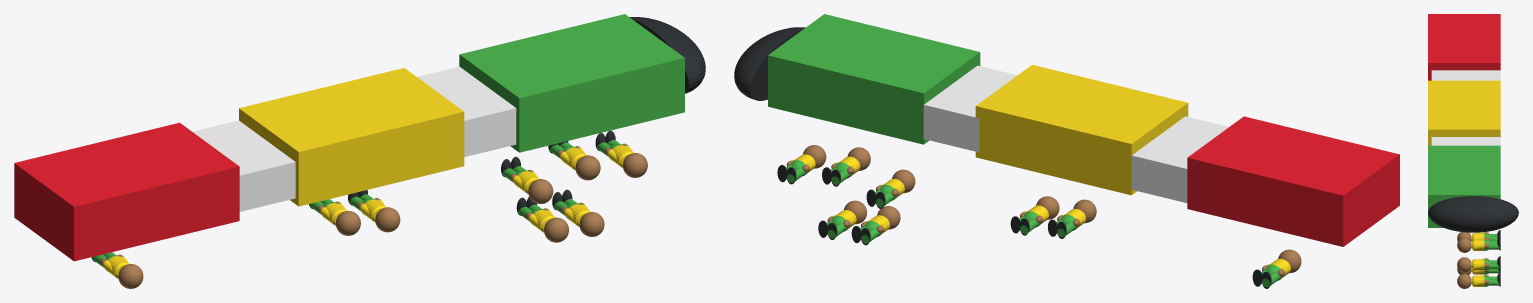
Rendered from tinker.obj.
3 views of the same model, side by side, from view 1: azimuth 30°, elevation 25°; view 2: azimuth 150°, elevation 25°; view 3: azimuth 270°, elevation 25° (orthographic). The views are drawn at different scales.
Parts seen in each view (by area): view 1: group_0_16768282, group_0_15277357, group_0_4634441, group_0_16448250, group_0_11107152, group_0_2829873; view 2: group_0_15277357, group_0_4634441, group_0_16768282, group_0_16448250, group_0_2829873, group_0_11107152; view 3: group_0_16768282, group_0_4634441, group_0_15277357, group_0_2829873, group_0_16448250, group_0_11107152.
Boxes of the visible parts, left/top/right/bottom form: group_0_16768282: left=103, top=68, right=633, bottom=278; group_0_15277357: left=14, top=122, right=239, bottom=261; group_0_4634441: left=92, top=14, right=684, bottom=271; group_0_16448250: left=192, top=66, right=516, bottom=211; group_0_11107152: left=100, top=143, right=647, bottom=288; group_0_2829873: left=91, top=17, right=705, bottom=262; group_0_15277357: left=1187, top=116, right=1399, bottom=246; group_0_4634441: left=768, top=14, right=1282, bottom=287; group_0_16768282: left=790, top=64, right=1290, bottom=277; group_0_16448250: left=923, top=65, right=1228, bottom=202; group_0_2829873: left=734, top=27, right=1271, bottom=288; group_0_11107152: left=786, top=145, right=1301, bottom=276; group_0_16768282: left=1428, top=80, right=1500, bottom=286; group_0_4634441: left=1428, top=145, right=1500, bottom=286; group_0_15277357: left=1428, top=14, right=1500, bottom=80; group_0_2829873: left=1428, top=196, right=1518, bottom=286; group_0_16448250: left=1431, top=70, right=1500, bottom=145; group_0_11107152: left=1457, top=232, right=1489, bottom=288.
Bounding box in the file's own units: 126 × 34 × 25.
